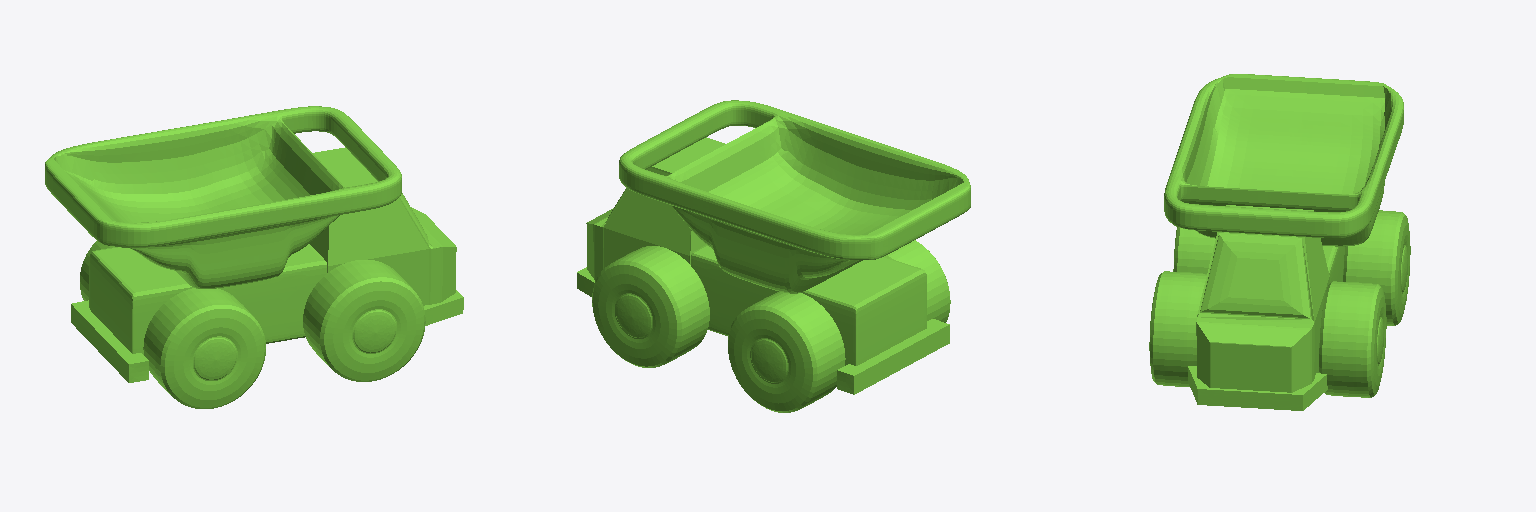
File: truck.obj
3 views of the same model, side by side, from view 1: azimuth 30°, elevation 25°; view 2: azimuth 150°, elevation 25°; view 3: azimuth 270°, elevation 25° (orthographic).
Parts seen in each view (by area): view 1: Object05; view 2: Object05; view 3: Object05.
Part boxes in pixels (x1,y1,x2,y2): Object05: (45, 106, 463, 408); Object05: (577, 100, 970, 412); Object05: (1149, 74, 1410, 410).
Bounding box in the file's own units: 290 × 149 × 183.